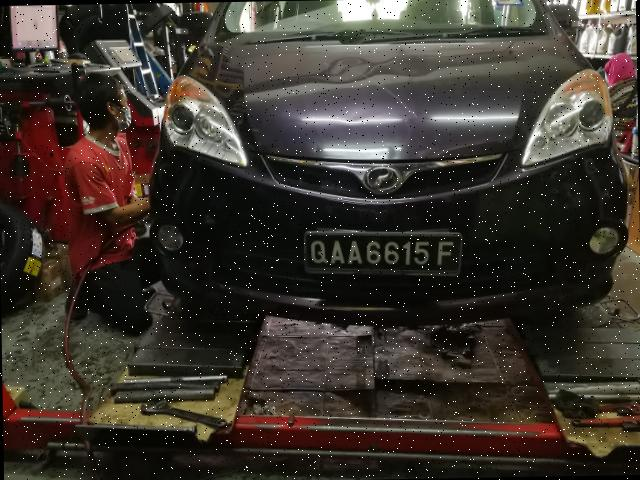License_Plate: (303, 229, 464, 284)
car: (148, 1, 627, 328)
